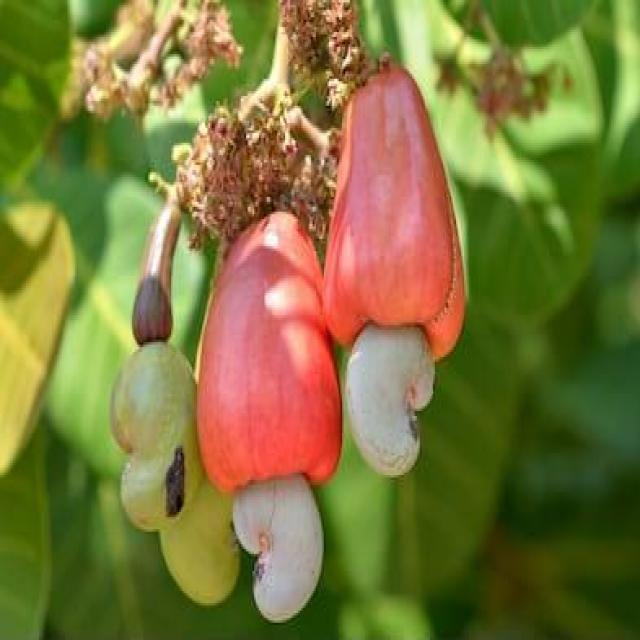cashew: (101, 317, 198, 501), (240, 490, 350, 626), (348, 315, 428, 475)
